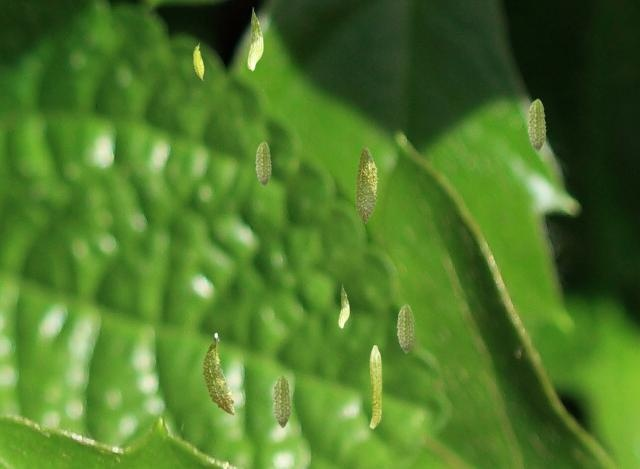ampalaya: (201, 332, 235, 415), (354, 146, 378, 223), (369, 344, 382, 429), (247, 6, 263, 71), (527, 98, 546, 152), (272, 374, 291, 428), (396, 303, 414, 353), (255, 140, 272, 187), (338, 283, 350, 329), (192, 42, 204, 81)
